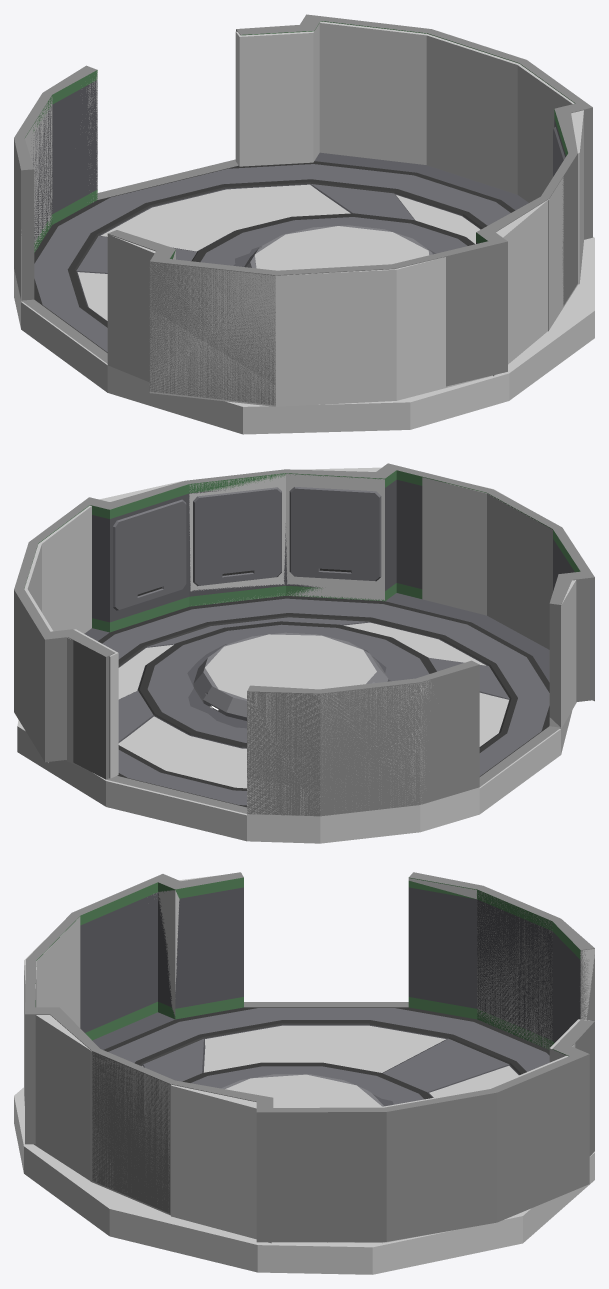
File: SM_Bld_Hydroponics_BaseFloor_01.fbx
3 renders of one model, top to bottom at view 1: azimuth 30°, elevation 25°; view 2: azimuth 150°, elevation 25°; view 3: azimuth 270°, elevation 25°, orthographic. The views are drawn at different scales.
Parts seen in each view (by area): view 1: SM_Bld_Hydroponics_BaseFloor_01_ConvexHulls, SM_Bld_Hydroponics_BaseFloor_01_LOD0; view 2: SM_Bld_Hydroponics_BaseFloor_01_LOD0, SM_Bld_Hydroponics_BaseFloor_01_ConvexHulls; view 3: SM_Bld_Hydroponics_BaseFloor_01_LOD0, SM_Bld_Hydroponics_BaseFloor_01_ConvexHulls.
Part boxes in pixels (x1,y1,x2,y2): SM_Bld_Hydroponics_BaseFloor_01_ConvexHulls: (14, 21, 594, 434); SM_Bld_Hydroponics_BaseFloor_01_LOD0: (14, 14, 592, 405); SM_Bld_Hydroponics_BaseFloor_01_LOD0: (14, 463, 594, 816); SM_Bld_Hydroponics_BaseFloor_01_ConvexHulls: (17, 467, 594, 843); SM_Bld_Hydroponics_BaseFloor_01_LOD0: (25, 872, 594, 1242); SM_Bld_Hydroponics_BaseFloor_01_ConvexHulls: (14, 875, 594, 1274).
Bounding box in the file's own units: 1622 × 1610 × 490.
Materials: 1 (1 with a texture image).
